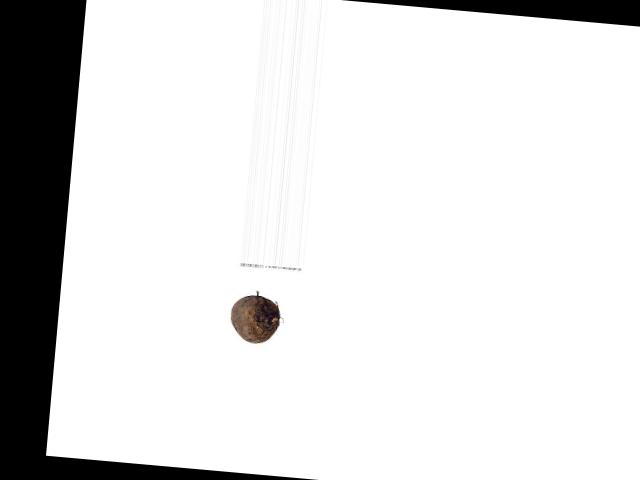beet: (227, 293, 280, 344)
